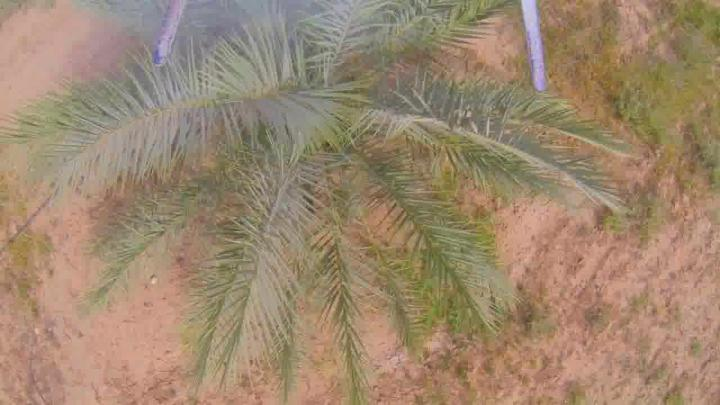Date-Palm-Crown: (172, 1, 444, 248)
